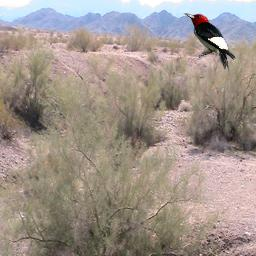Woodpecker: (183, 13, 237, 72)
